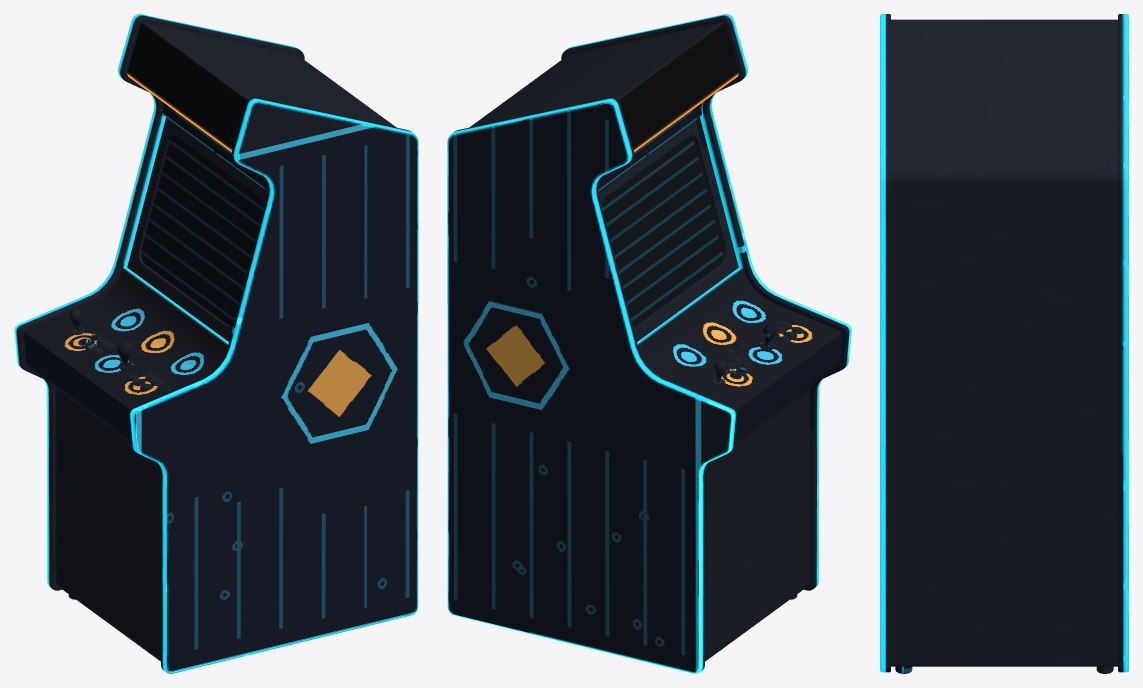
File: cabinet.glb
3 renders of one model, left to right at view 1: azimuth 30°, elevation 25°; view 2: azimuth 150°, elevation 25°; view 3: azimuth 270°, elevation 25°, orthographic. The views are drawn at different scales.
Visible parts, largest first — view 1: arcade_machine; view 2: arcade_machine; view 3: arcade_machine.
Part boxes in pixels (x1,y1,x2,y2): arcade_machine: (14, 14, 418, 673); arcade_machine: (447, 14, 851, 673); arcade_machine: (880, 14, 1128, 673).
Size of the model in its own units: 1.67 by 3.1 by 1.2.
Materials: 1 (1 with a texture image).
